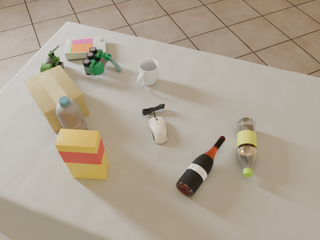book: (65, 37, 106, 61)
bottle: (176, 136, 225, 197), (237, 117, 257, 177), (55, 96, 88, 131)
box: (24, 65, 89, 132), (55, 129, 109, 180)
cup: (137, 58, 159, 86)
mouse: (149, 117, 168, 144)
toy_car: (83, 47, 122, 76), (40, 45, 64, 72)
